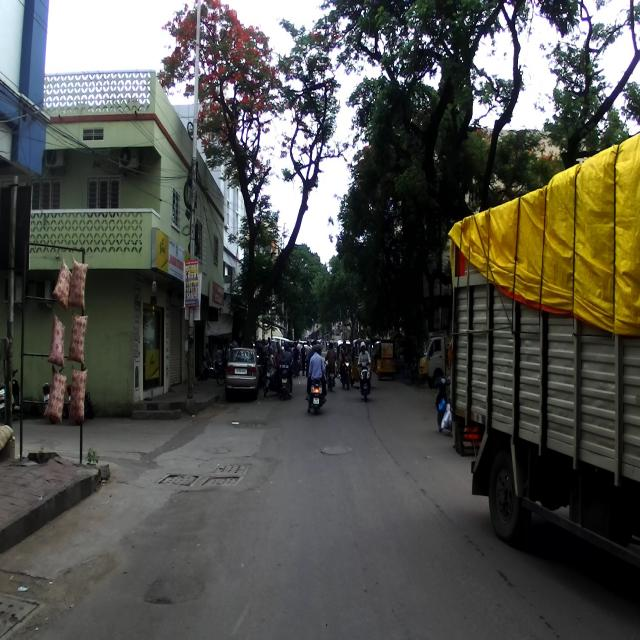motorcycle: (62, 353, 93, 426), (41, 365, 68, 424)
scooter: (309, 375, 324, 410)
truck: (447, 130, 639, 570)
